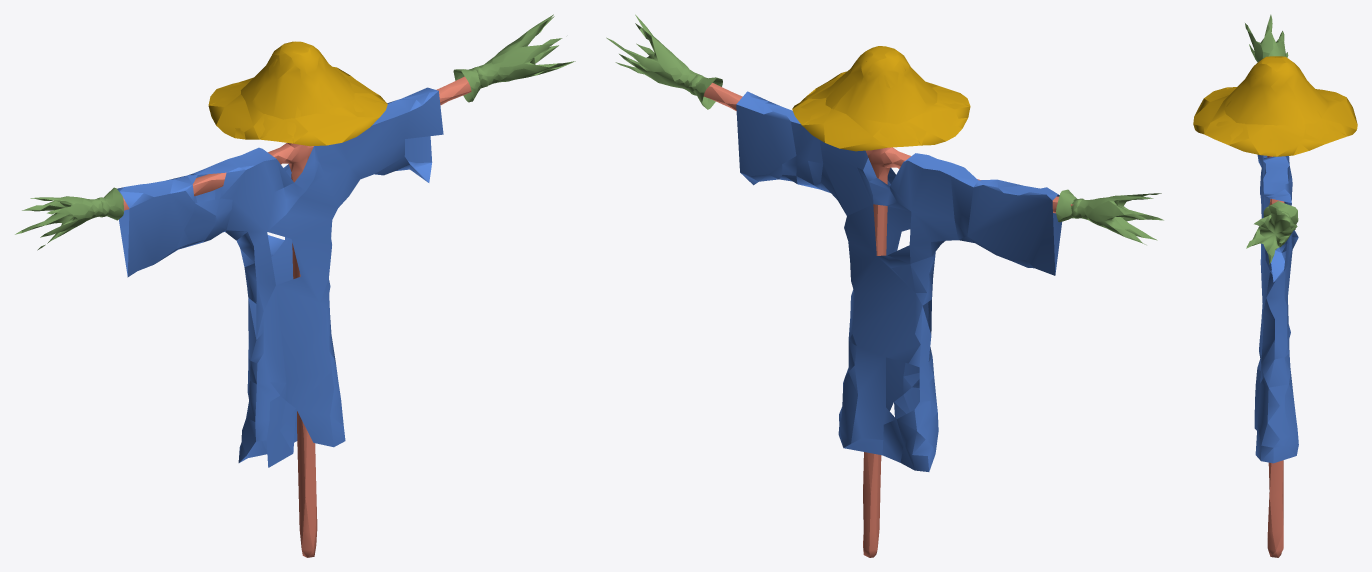
Rendered from 044 Scarecrow.FBX.
3 views of the same model, side by side, from view 1: azimuth 30°, elevation 25°; view 2: azimuth 150°, elevation 25°; view 3: azimuth 270°, elevation 25° (orthographic). The views are drawn at different scales.
Parts seen in each view (by area): view 1: Cloth, Hat_m, Base, LeftHand, RightHand; view 2: Cloth, Hat_m, Base, LeftHand, RightHand; view 3: Hat_m, Cloth, LeftHand, Base, RightHand.
Part boxes in pixels (box(x1,y1,x2,y2)): Cloth: box(117, 87, 443, 467); Hat_m: box(208, 41, 387, 146); Base: box(123, 76, 471, 557); LeftHand: box(453, 14, 575, 102); RightHand: box(15, 187, 123, 250); Cloth: box(736, 91, 1061, 471); Hat_m: box(792, 46, 970, 151); Base: box(703, 83, 1073, 557); LeftHand: box(606, 14, 722, 109); RightHand: box(1056, 189, 1163, 244); Hat_m: box(1193, 56, 1357, 156); Cloth: box(1254, 154, 1298, 463); LeftHand: box(1246, 201, 1298, 264); Base: box(1267, 156, 1284, 557); RightHand: box(1245, 14, 1288, 62).
Size of the model in its own units: 332 by 296 by 89.88.
